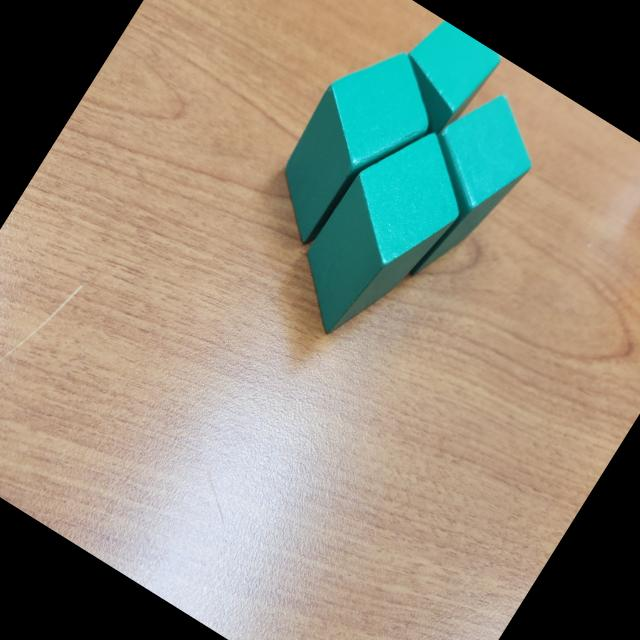green: (273, 108, 488, 360), (248, 26, 457, 270), (366, 77, 556, 300), (374, 13, 506, 153)
